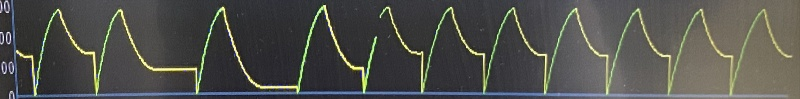leakage: (5, 0, 800, 99)
